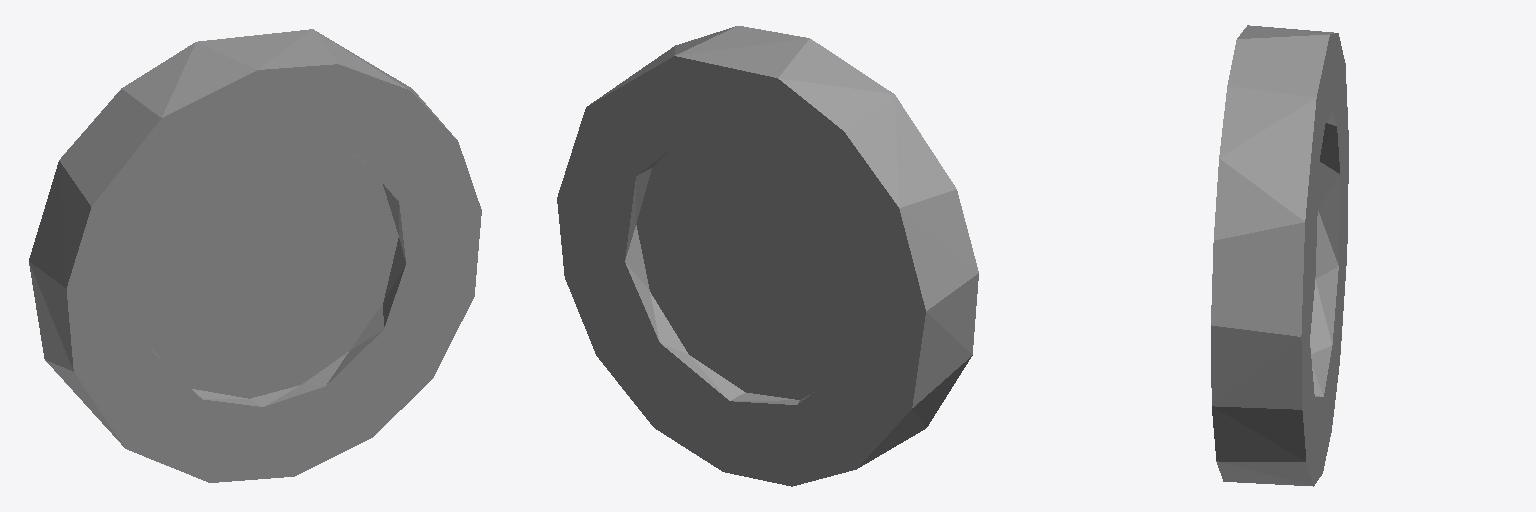
Rendered from coin.obj.
The picture shows the model from 3 angles: view 1: azimuth 30°, elevation 25°; view 2: azimuth 150°, elevation 25°; view 3: azimuth 270°, elevation 25°; orthographic projection.
Visible parts, largest first — view 1: Coin_Circle; view 2: Coin_Circle; view 3: Coin_Circle.
Boxes of the visible parts, x1,y1,x2,y2 form: Coin_Circle: [29, 29, 481, 482]; Coin_Circle: [557, 26, 978, 486]; Coin_Circle: [1211, 25, 1348, 486].
Bounding box in the file's own units: 2.03 × 2 × 0.6067.